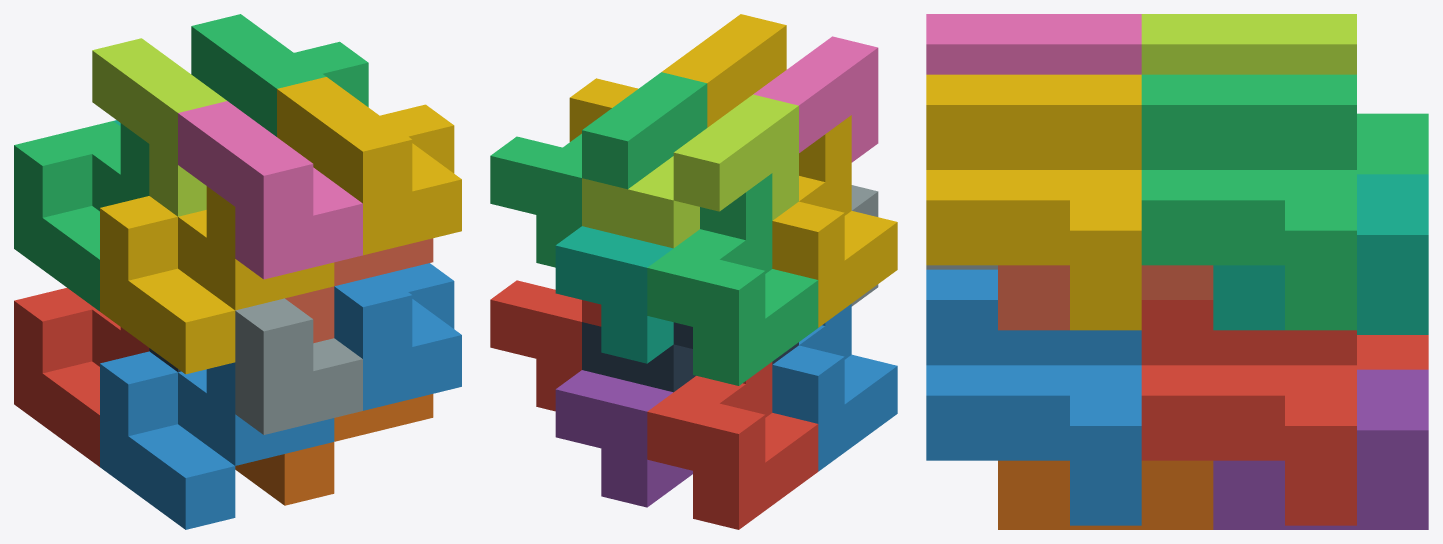
Rendered from tiling.obj.
3 renders of one model, left to right at view 1: azimuth 30°, elevation 25°; view 2: azimuth 150°, elevation 25°; view 3: azimuth 270°, elevation 25°, orthographic. The views are drawn at different scales.
Visible parts, largest first — view 1: copy_1_domain_4, copy_1_domain_2, copy_2_domain_8, copy_2_domain_4, copy_1_domain_3, copy_2_domain_6, copy_1_domain_1, copy_2_domain_2, copy_2_domain_3, copy_2_domain_7, copy_1_domain_6, copy_1_domain_8; view 2: copy_1_domain_3, copy_1_domain_1, copy_2_domain_7, copy_2_domain_3, copy_1_domain_4, copy_1_domain_2, copy_1_domain_5, copy_1_domain_7, copy_2_domain_8, copy_2_domain_4, copy_2_domain_5, copy_2_domain_1 (+1 smaller); view 3: copy_2_domain_8, copy_2_domain_7, copy_2_domain_6, copy_2_domain_5, copy_1_domain_5, copy_1_domain_7, copy_2_domain_3, copy_2_domain_4, copy_1_domain_6, copy_1_domain_8, copy_1_domain_3, copy_1_domain_1.
Boxes of the visible parts, x1=… form: copy_1_domain_4: x1=100, y1=186, x2=334, y2=374; copy_1_domain_2: x1=100, y1=351, x2=334, y2=529; copy_2_domain_8: x1=277, y1=77, x2=461, y2=255; copy_2_domain_4: x1=178, y1=101, x2=362, y2=279; copy_1_domain_3: x1=14, y1=121, x2=149, y2=311; copy_2_domain_6: x1=334, y1=263, x2=461, y2=410; copy_1_domain_1: x1=14, y1=288, x2=149, y2=466; copy_2_domain_2: x1=235, y1=298, x2=362, y2=434; copy_2_domain_3: x1=92, y1=38, x2=226, y2=216; copy_2_domain_7: x1=191, y1=14, x2=368, y2=136; copy_1_domain_6: x1=235, y1=394, x2=433, y2=505; copy_1_domain_8: x1=285, y1=238, x2=433, y2=343; copy_1_domain_3: x1=647, y1=173, x2=818, y2=385; copy_1_domain_1: x1=647, y1=362, x2=818, y2=529; copy_2_domain_7: x1=490, y1=72, x2=707, y2=267; copy_2_domain_3: x1=582, y1=94, x2=798, y2=248; copy_1_domain_4: x1=772, y1=115, x2=897, y2=327; copy_1_domain_2: x1=772, y1=304, x2=897, y2=471; copy_1_domain_5: x1=555, y1=370, x2=692, y2=507; copy_1_domain_7: x1=555, y1=226, x2=673, y2=363; copy_2_domain_8: x1=569, y1=14, x2=786, y2=141; copy_2_domain_4: x1=753, y1=36, x2=878, y2=162; copy_2_domain_5: x1=490, y1=280, x2=601, y2=411; copy_2_domain_1: x1=582, y1=322, x2=798, y2=392; copy_2_domain_8: x1=926, y1=74, x2=1141, y2=330; copy_2_domain_7: x1=1141, y1=74, x2=1356, y2=330; copy_2_domain_6: x1=926, y1=269, x2=1141, y2=525; copy_2_domain_5: x1=1141, y1=300, x2=1356, y2=525; copy_1_domain_5: x1=1213, y1=369, x2=1428, y2=529; copy_1_domain_7: x1=1213, y1=174, x2=1428, y2=334; copy_2_domain_3: x1=1141, y1=14, x2=1356, y2=74; copy_2_domain_4: x1=926, y1=14, x2=1141, y2=74; copy_1_domain_6: x1=998, y1=460, x2=1213, y2=529; copy_1_domain_8: x1=998, y1=265, x2=1213, y2=330; copy_1_domain_3: x1=1357, y1=113, x2=1428, y2=174; copy_1_domain_1: x1=1357, y1=335, x2=1428, y2=369.
Bounding box in the file's own units: 6 × 7 × 7.
